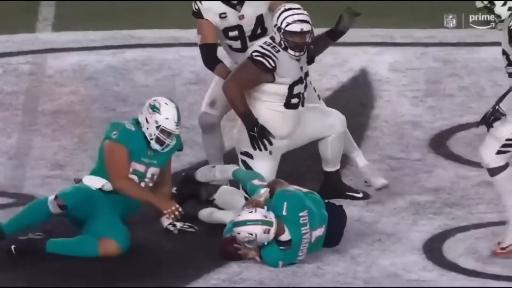Helmet: (138, 97, 181, 152), (272, 3, 313, 58), (231, 208, 277, 246), (477, 1, 512, 21)
Jersey: (84, 119, 184, 188), (246, 33, 314, 124), (260, 187, 329, 267), (503, 17, 511, 90)
Player: (0, 96, 183, 257), (223, 3, 362, 193), (198, 165, 347, 268), (192, 1, 286, 164), (477, 95, 512, 219), (476, 1, 512, 93), (344, 127, 389, 190), (493, 224, 512, 256), (306, 80, 325, 105)
